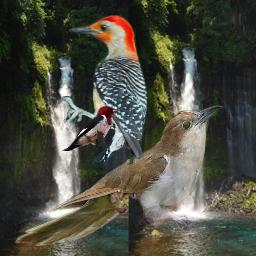Cuckoo: (14, 104, 224, 246)
Woodpecker: (62, 15, 151, 167), (61, 105, 121, 151)
